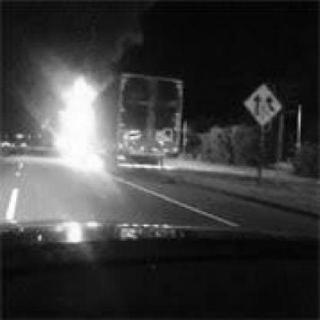Fire: (44, 66, 110, 172)
